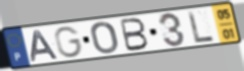3: (157, 11, 186, 48)
A: (30, 29, 61, 63)
B: (119, 17, 150, 53)
G: (53, 25, 85, 59)
L: (186, 10, 216, 45)
O: (89, 20, 120, 56)
